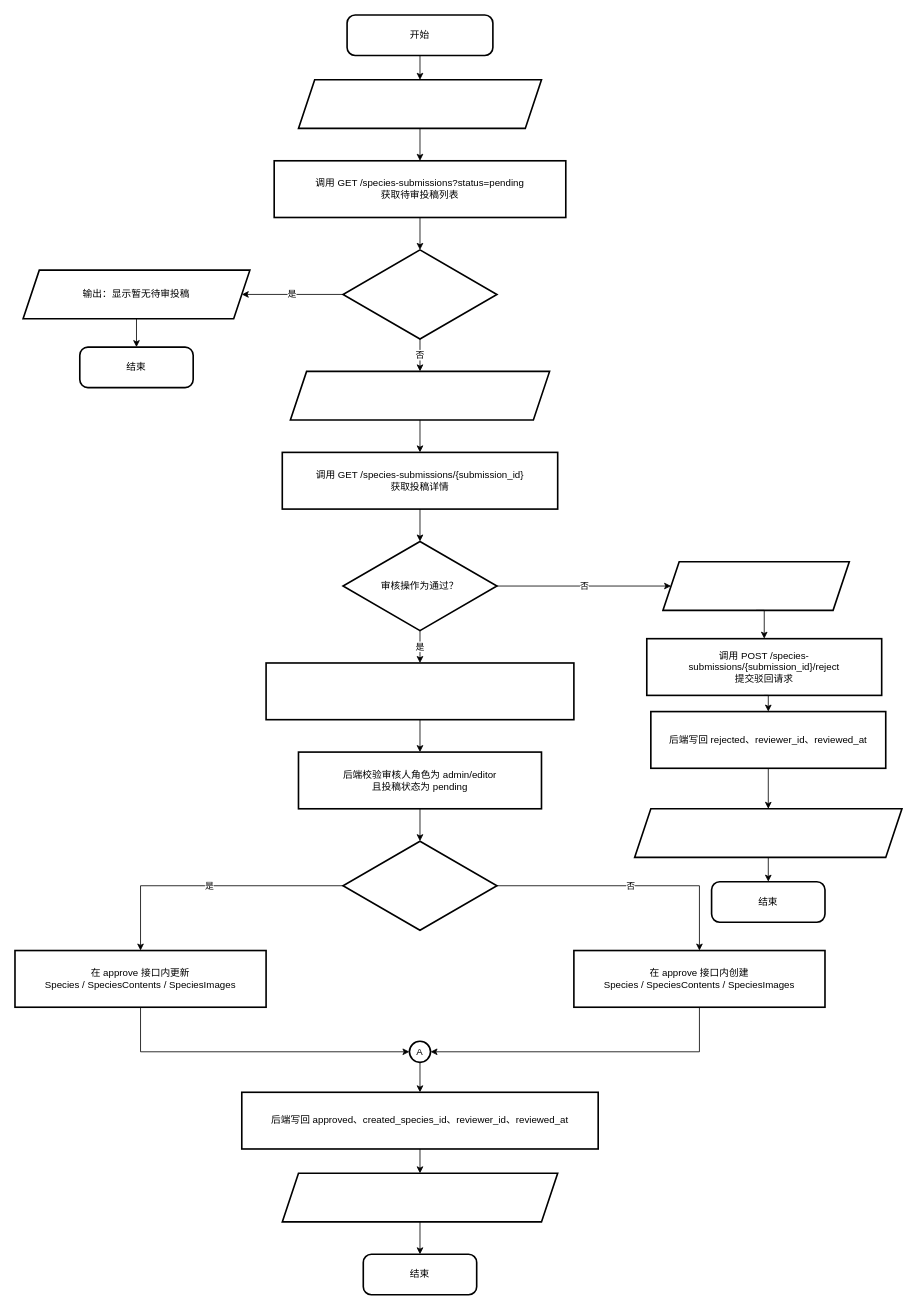
Image size: 916x1309. Some labels were removed from this diagram. Each missing label, with the centre of its shape:
"target_species_id 存在？" goes at (x=419, y=885).
"待审列表为空？" goes at (x=419, y=294).
"编辑进入投稿审核页面" goes at (x=419, y=104).
"编辑选择一条投稿记录" goes at (x=419, y=395).
"调用 POST /species-submissions/{submission_id}/approve 提交通过请求" goes at (x=419, y=691).
"输入驳回意见 review_note 可为空" goes at (x=756, y=586).
"输出：返回通过结果并刷新列表 GET /species-submissions?status=pending" goes at (x=419, y=1197).
"输出：返回驳回结果并刷新列表 GET /species-submissions?status=pending" goes at (x=767, y=833).
